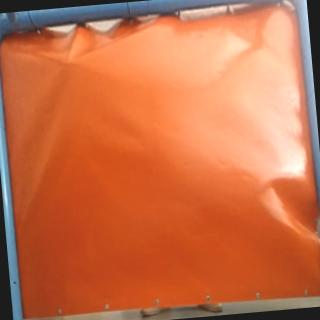Hit-hRxx: (56, 54, 77, 70)
